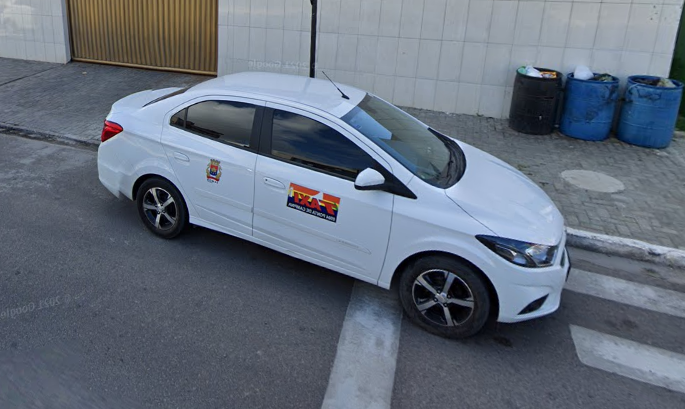car: (94, 66, 575, 342)
